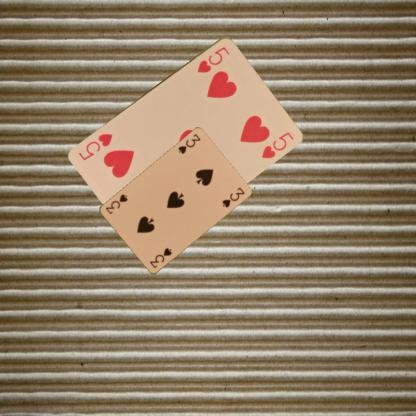3s: (148, 245, 174, 270), (176, 131, 202, 156)
5h: (194, 43, 230, 74)
